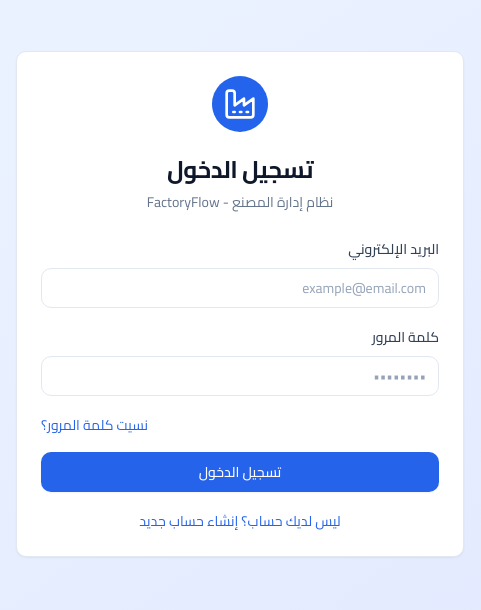
Test: LoginPage › Rate Limiting › shows last attempt warning when only 1 attempt remains
Type "test@example.com" into the field labelled "البريد الإلكتروني" at (240, 288), box [41,268,439,308]
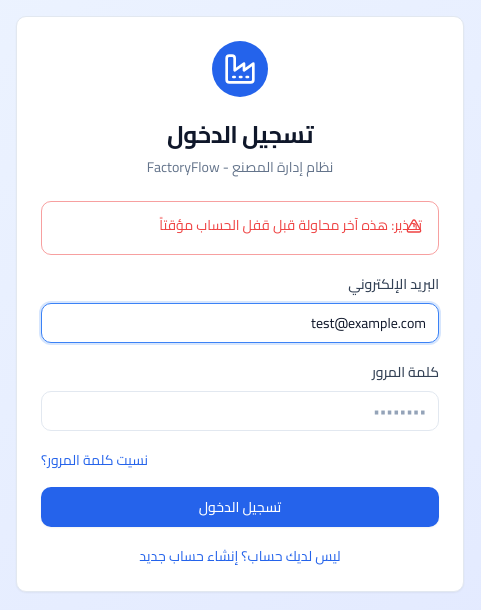
Result: the text "تحذير: هذه آخر محاولة قبل قفل الحساب مؤقتاً" is shown at [159,212,422,238]
